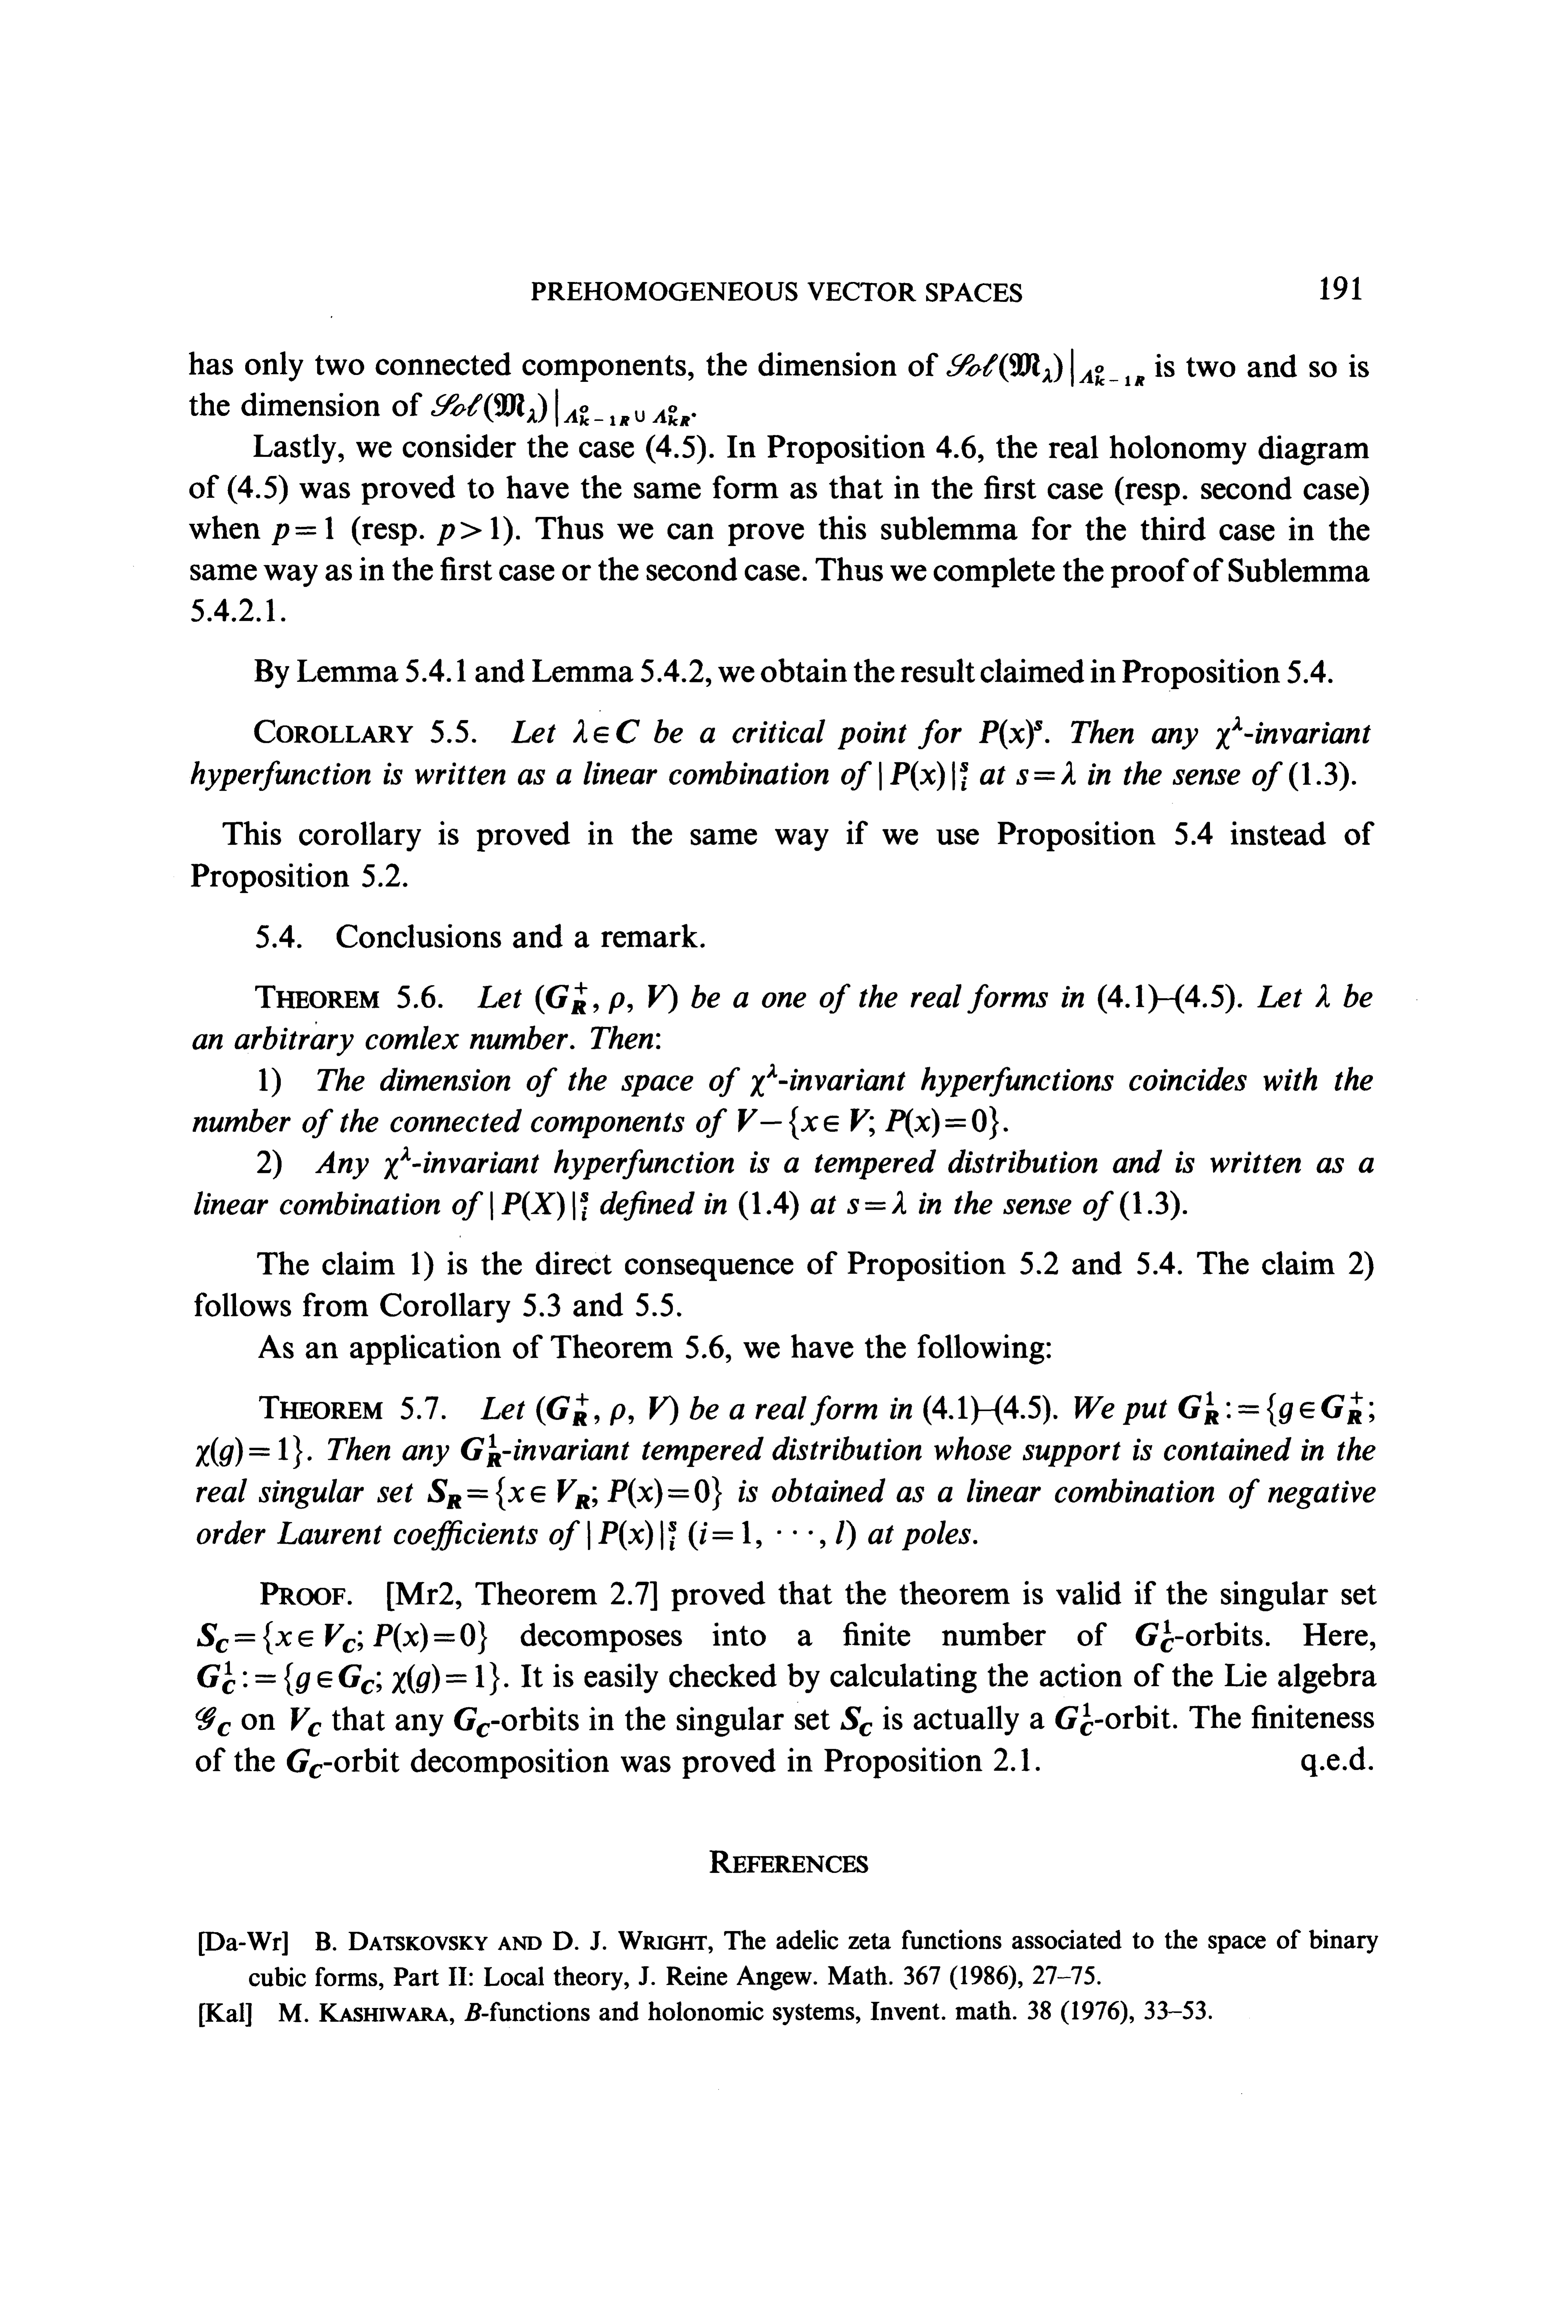maths: (198, 1661, 483, 1696), (430, 389, 689, 427), (427, 1477, 721, 1510), (198, 1621, 474, 1654), (558, 1521, 856, 1551), (738, 1106, 999, 1139), (947, 348, 1144, 387), (1178, 1391, 1374, 1426), (535, 1393, 677, 1426), (535, 982, 677, 1013), (490, 1192, 588, 1221), (196, 1437, 287, 1466), (878, 761, 968, 791), (429, 1706, 490, 1738), (978, 719, 1043, 749), (437, 516, 499, 546), (271, 516, 332, 544), (572, 719, 639, 744), (1017, 761, 1076, 784), (847, 1192, 906, 1214), (460, 1433, 500, 1466), (1055, 1703, 1094, 1736), (1216, 716, 1253, 749), (1136, 1621, 1174, 1652), (196, 1706, 231, 1736), (287, 1748, 322, 1778), (840, 1706, 871, 1736), (751, 1064, 777, 1097), (383, 1146, 409, 1179), (290, 1708, 320, 1736), (450, 2004, 481, 2025), (1316, 983, 1330, 1006)
